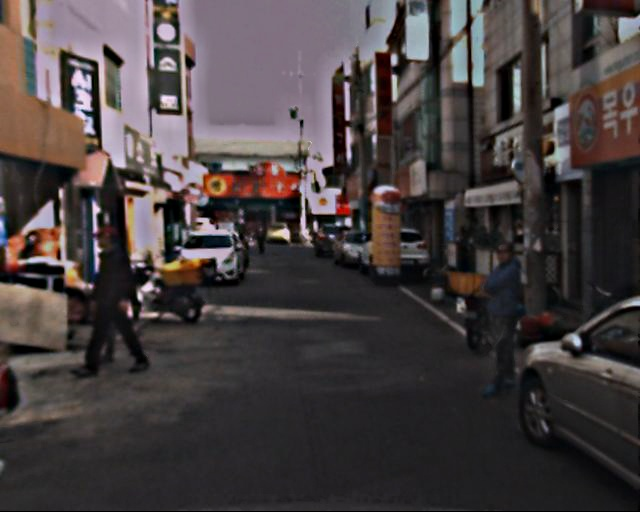person: (82, 223, 156, 373), (471, 243, 535, 392), (254, 219, 271, 260)
